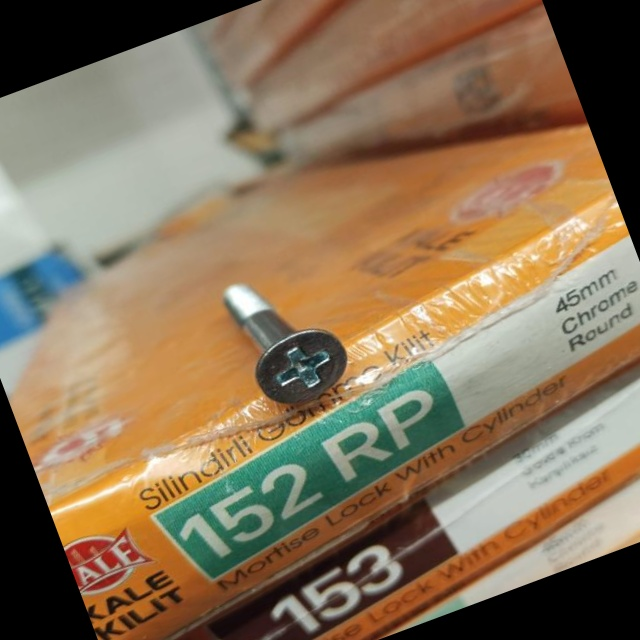phillips: (245, 320, 359, 417)
